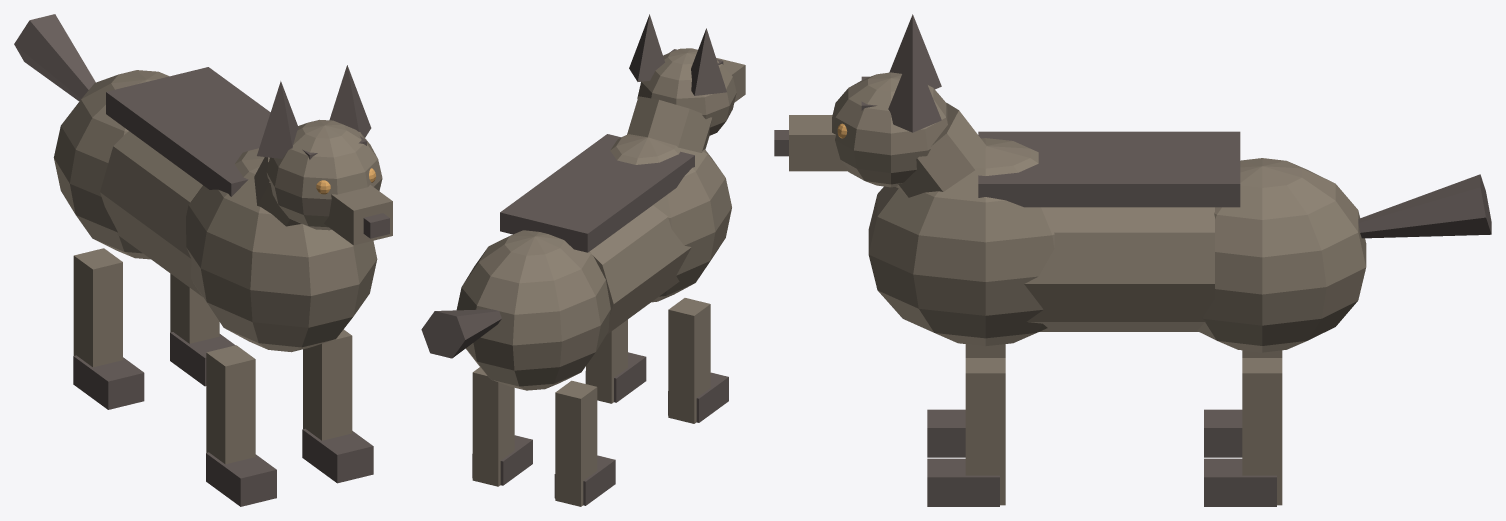
The model's file is wolf.fbx.
3 renders of one model, left to right at view 1: azimuth 30°, elevation 25°; view 2: azimuth 150°, elevation 25°; view 3: azimuth 270°, elevation 25°, orthographic. The views are drawn at different scales.
Parts seen in each view (by area): view 1: wolf; view 2: wolf; view 3: wolf.
Boxes of the visible parts, x1,y1,x2,y2 form: wolf: [14, 14, 392, 506]; wolf: [421, 14, 745, 506]; wolf: [774, 14, 1491, 506].
Size of the model in its own units: 52 by 134 by 197.
